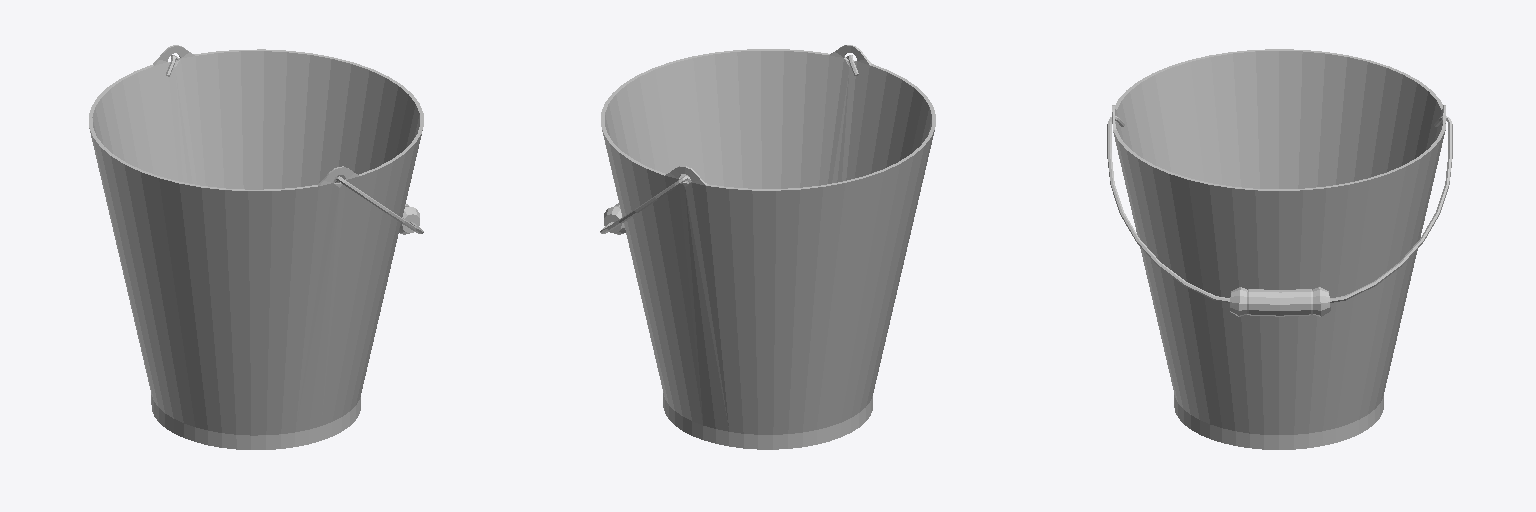
Rendered from Bucket.obj.
3 views of the same model, side by side, from view 1: azimuth 30°, elevation 25°; view 2: azimuth 150°, elevation 25°; view 3: azimuth 270°, elevation 25° (orthographic).
Visible parts, largest first — view 1: Kova group1, group1 Kovatut; view 2: Kova group1, group1 Kovatut; view 3: Kova group1, group1 Kovatut.
Boxes of the visible parts, x1=… form: Kova group1: x1=89, y1=45, x2=423, y2=449; group1 Kovatut: x1=166, y1=55, x2=423, y2=234; Kova group1: x1=601, y1=45, x2=935, y2=449; group1 Kovatut: x1=600, y1=55, x2=858, y2=234; Kova group1: x1=1112, y1=49, x2=1445, y2=449; group1 Kovatut: x1=1107, y1=116, x2=1452, y2=316.
Size of the model in its own units: 2.36 by 2.31 by 2.42.